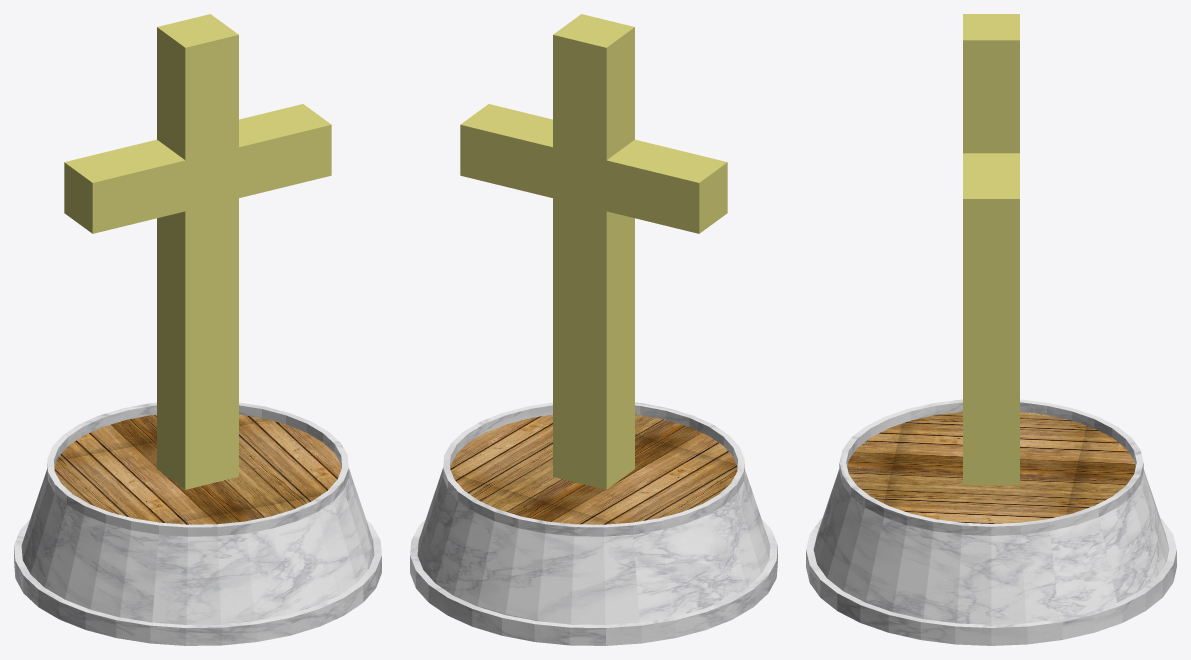
The model's file is missionary.glb.
3 views of the same model, side by side, from view 1: azimuth 30°, elevation 25°; view 2: azimuth 150°, elevation 25°; view 3: azimuth 270°, elevation 25° (orthographic).
Parts seen in each view (by area): view 1: Cylinder, Cube; view 2: Cylinder, Cube; view 3: Cylinder, Cube.
Part boxes in pixels (x1,y1,x2,y2): Cylinder: (14,402,381,645); Cube: (64,14,331,489); Cylinder: (410,402,777,645); Cube: (460,14,727,489); Cylinder: (806,399,1176,645); Cube: (963,14,1019,484).
Size of the model in its own units: 1 by 1.61 by 1.
3 materials, 2 textured.
